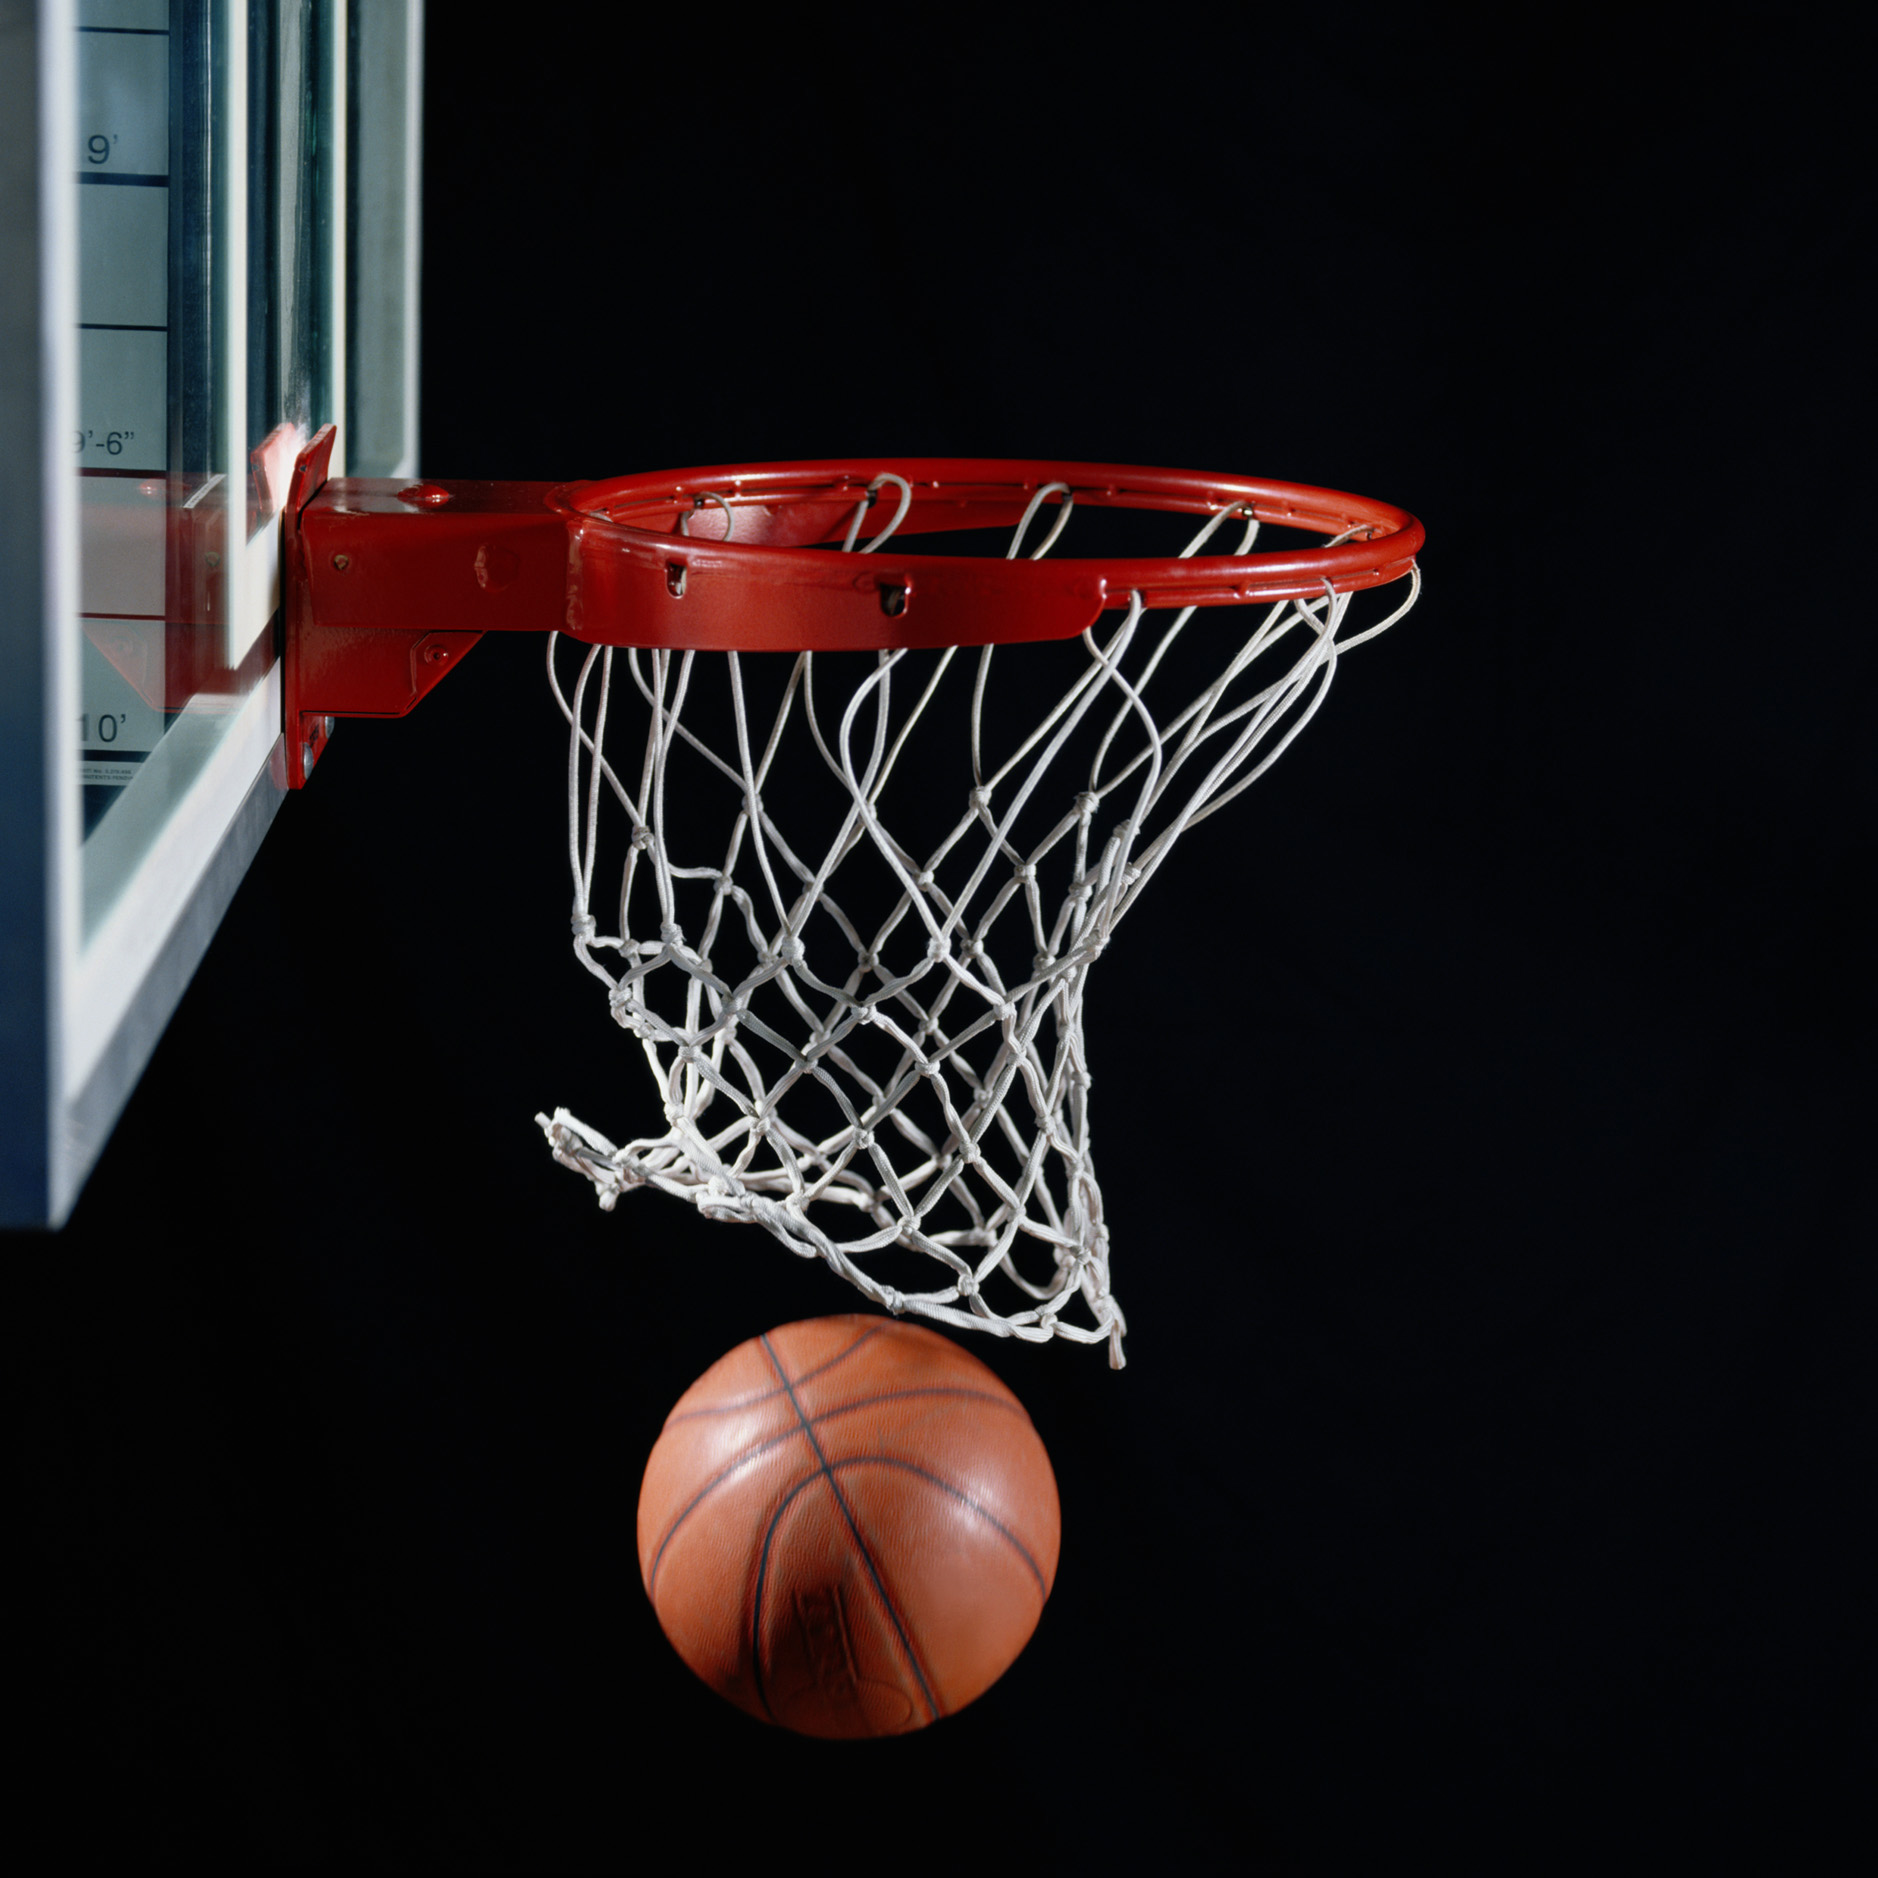basketball: (635, 1312, 1056, 1739)
